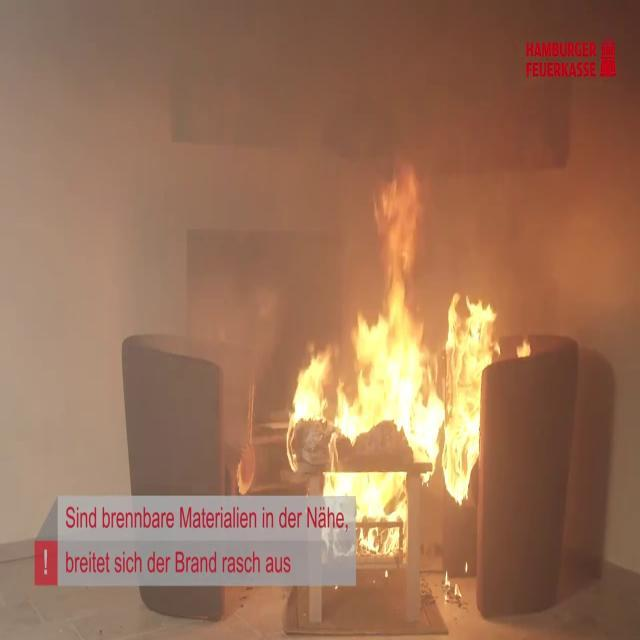Fire: (354, 302, 430, 436), (368, 170, 428, 308), (445, 293, 489, 421), (359, 475, 393, 575), (296, 355, 330, 426)
Smoke: (152, 21, 355, 314), (441, 20, 522, 276)
